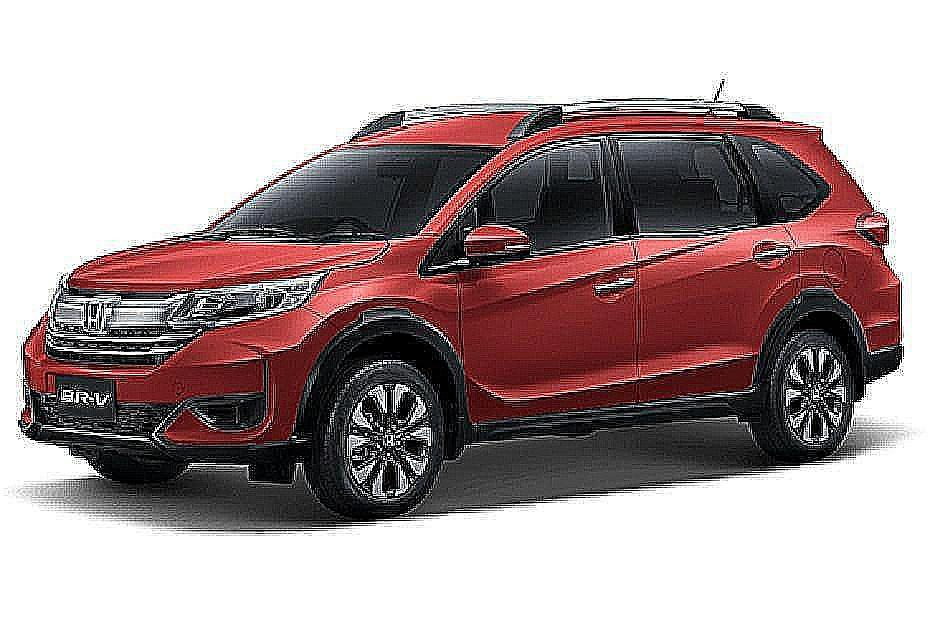Car hood: (60, 232, 393, 297)
Fender - -F-L-: (305, 231, 475, 447)
Fender - -R-L-: (786, 177, 890, 317)
Front bumper: (15, 308, 367, 469)
Headlight - -L-: (157, 269, 334, 336)
Headlight - -R-: (29, 272, 84, 326)
Passenger-s door - -F-L-: (447, 123, 643, 426)
Passenger-s door - -R-L-: (636, 120, 809, 407)
Rear bumper: (839, 240, 909, 404)
Rear light - -L-: (843, 196, 916, 256)
Side bumper - -L-: (448, 386, 766, 460)
Side mirror - -L-: (449, 214, 535, 273)
